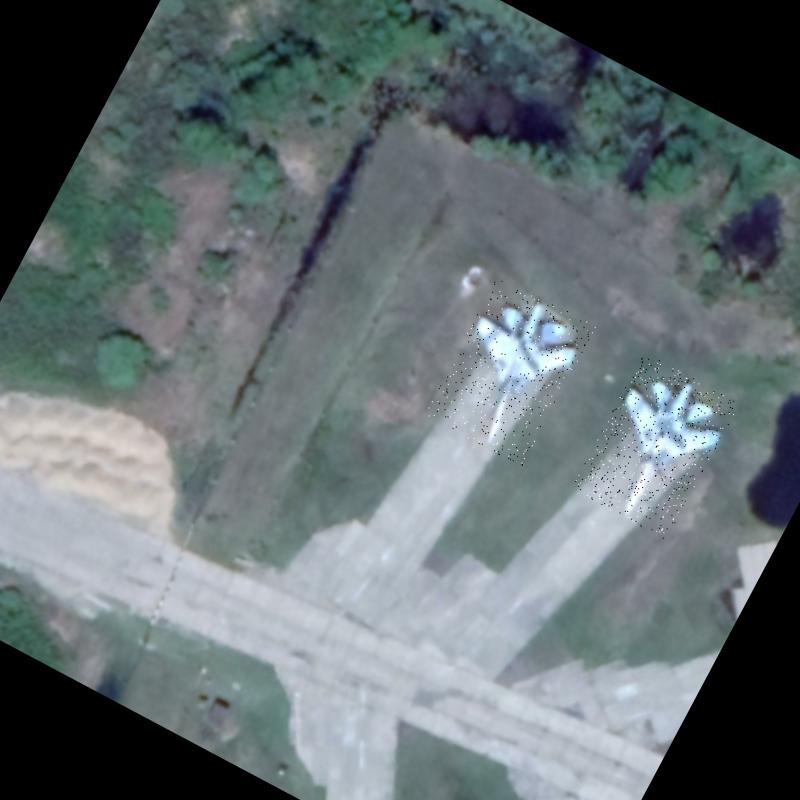A1: (422, 274, 596, 467), (570, 352, 739, 540)
